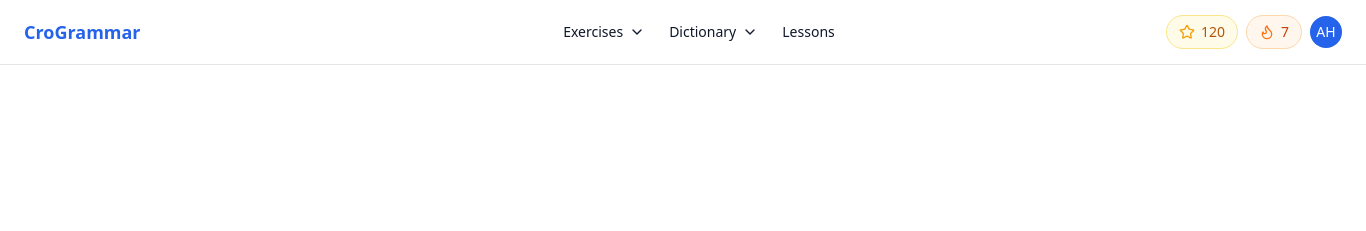
Scenario: Header › opens the user menu with settings and logout
Click the button with aria-label "Ana Horvat". click: (1326,32)
box: [1310,16,1342,48]
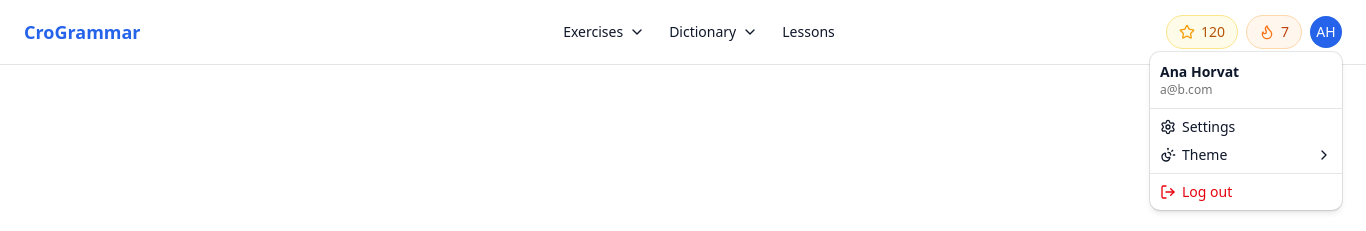
Expected: the menu item "Log out" is shown, [1160,182,1232,201]
Expected: the text "a@b.com" is shown, [1160,81,1212,98]
